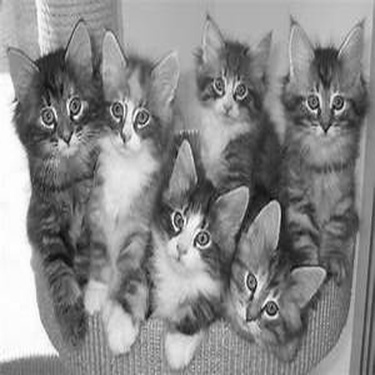cat: (83, 29, 185, 355), (3, 17, 99, 342), (144, 135, 249, 370), (281, 10, 368, 289), (194, 4, 285, 235), (234, 195, 328, 360)
